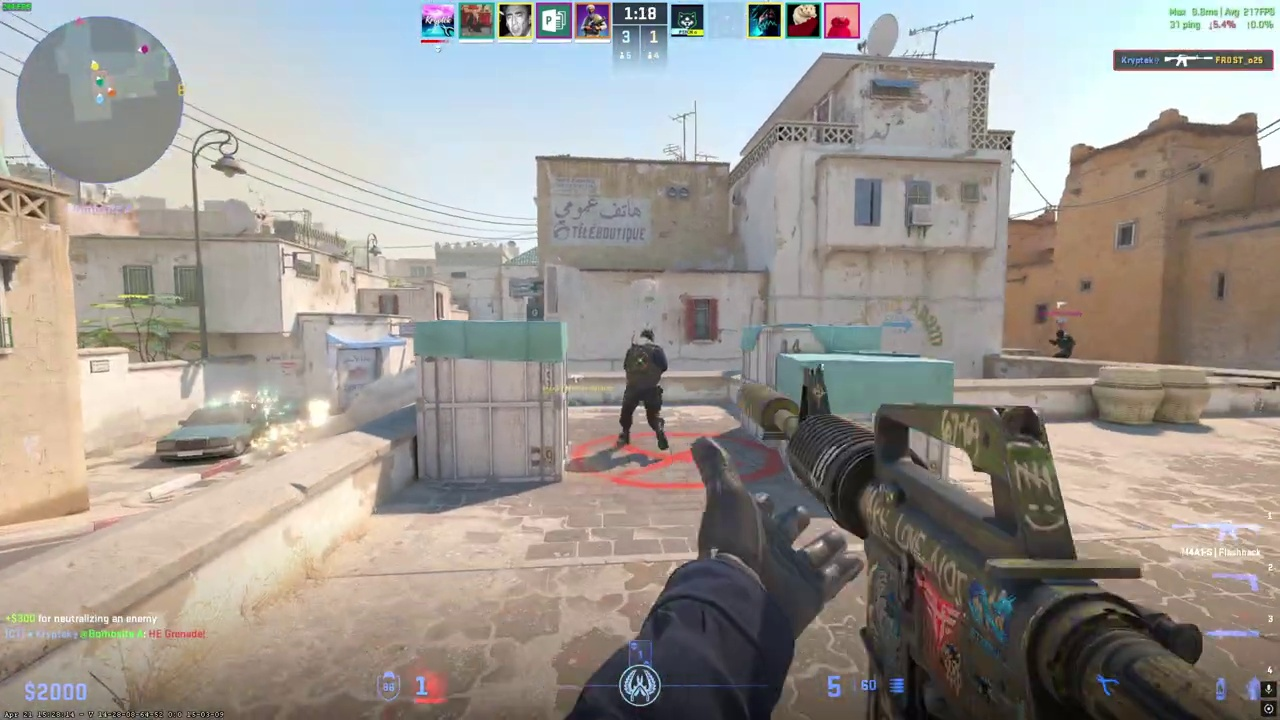CT: (618, 329, 669, 451), (1051, 329, 1074, 358)
